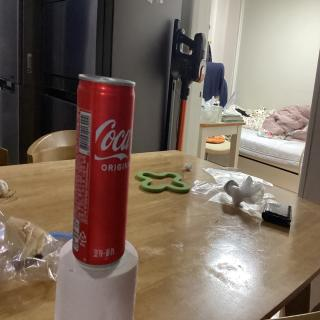cocacola: (72, 70, 134, 275)
